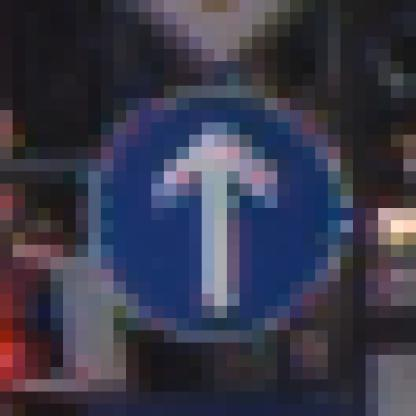AheadOnly: (64, 74, 354, 356)
